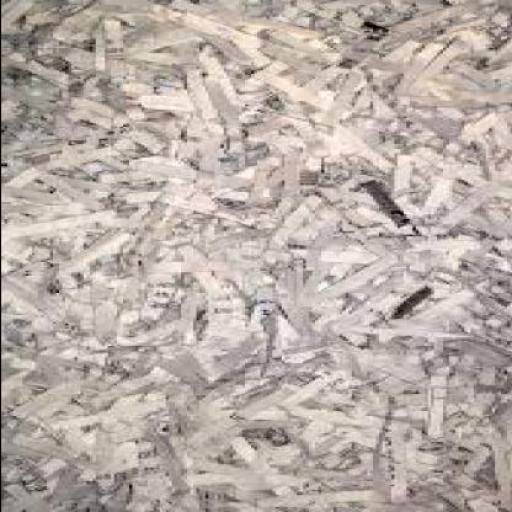paper: (2, 1, 511, 511)
